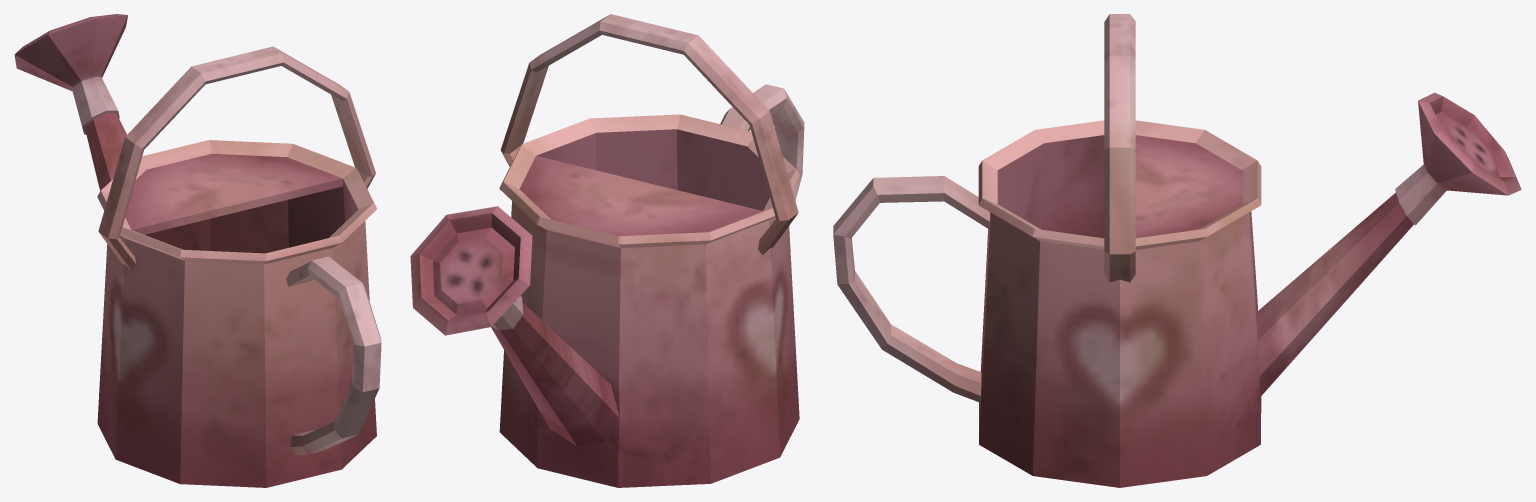
The model's file is WateringCan.fbx.
The picture shows the model from 3 angles, left to right: view 1: azimuth 30°, elevation 25°; view 2: azimuth 150°, elevation 25°; view 3: azimuth 270°, elevation 25°; orthographic projection. The views are drawn at different scales.
Visible parts, largest first — view 1: WateringCan; view 2: WateringCan; view 3: WateringCan.
Boxes of the visible parts, bbox=[...] form: WateringCan: bbox=[14, 14, 381, 487]; WateringCan: bbox=[410, 14, 804, 487]; WateringCan: bbox=[833, 14, 1521, 487].
Size of the model in its own units: 2.54 by 3.34 by 5.35.
